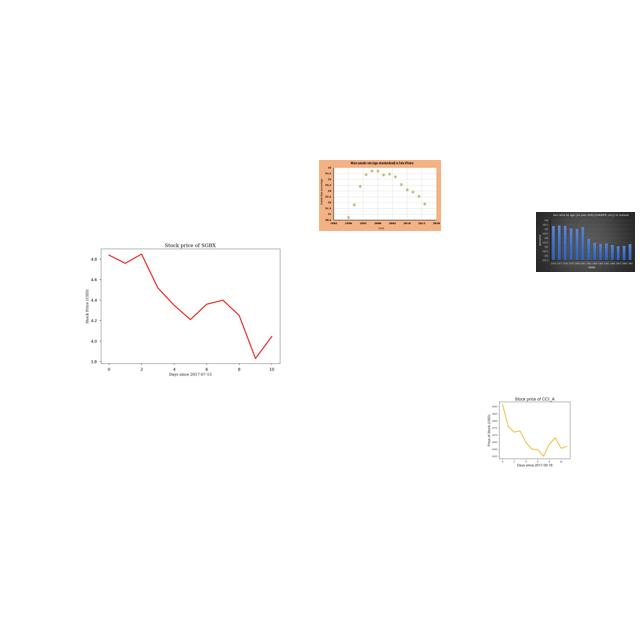Graph: (72, 226, 303, 385), (319, 160, 441, 231), (484, 393, 583, 467), (536, 212, 635, 272)
